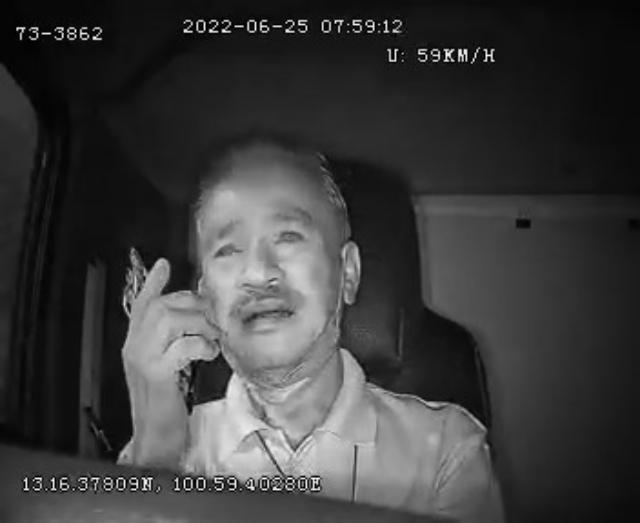PhoneUse: (118, 242, 198, 415)
SafeDriving: (208, 226, 250, 265), (268, 217, 312, 252)
